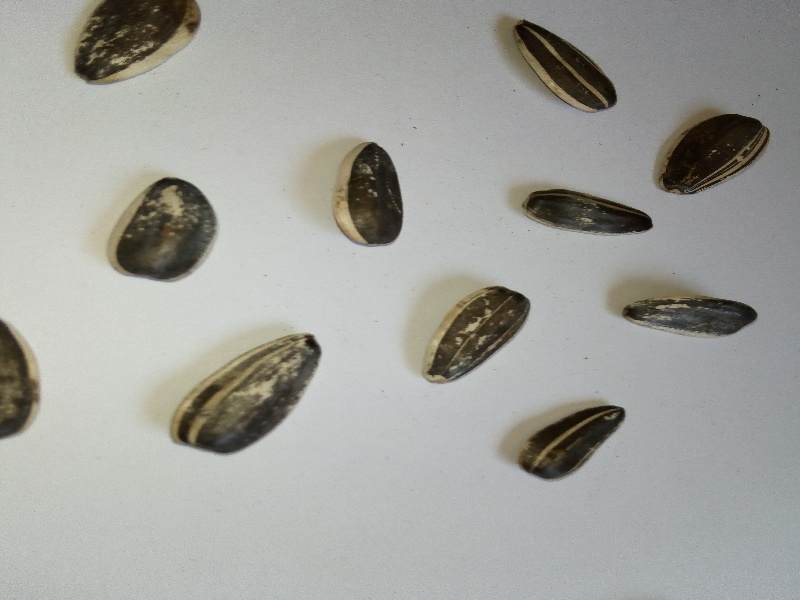girasol: (158, 323, 327, 462), (411, 277, 547, 390), (500, 15, 643, 119), (653, 95, 780, 211), (112, 170, 221, 297), (511, 390, 639, 493), (323, 131, 424, 257), (515, 180, 656, 252), (613, 290, 774, 348)
